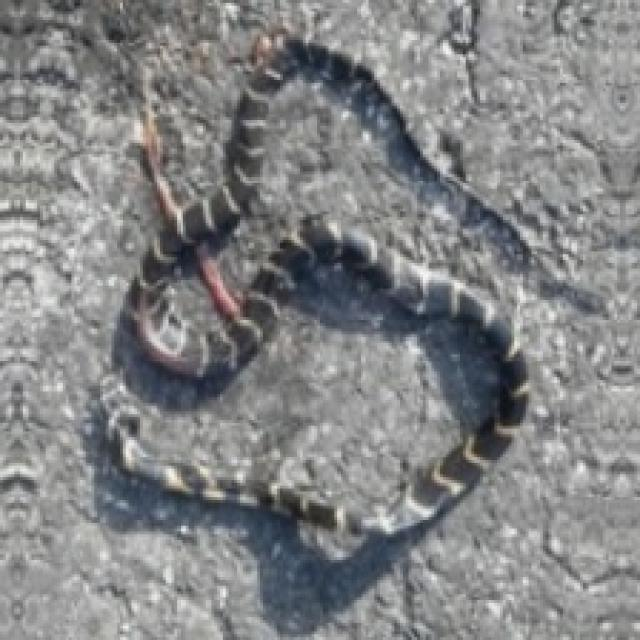king cobra: (100, 29, 600, 540), (200, 303, 460, 469)
